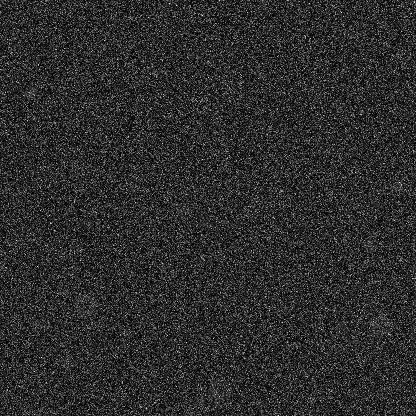Ring: (208, 376, 232, 400), (72, 292, 96, 316), (197, 388, 221, 412), (368, 313, 392, 337)
Spot: (362, 235, 378, 251), (176, 200, 192, 216), (27, 314, 43, 330), (23, 84, 39, 100), (390, 176, 406, 192), (58, 354, 74, 370), (391, 378, 407, 394), (196, 213, 212, 229), (376, 250, 392, 266), (335, 319, 351, 335)
